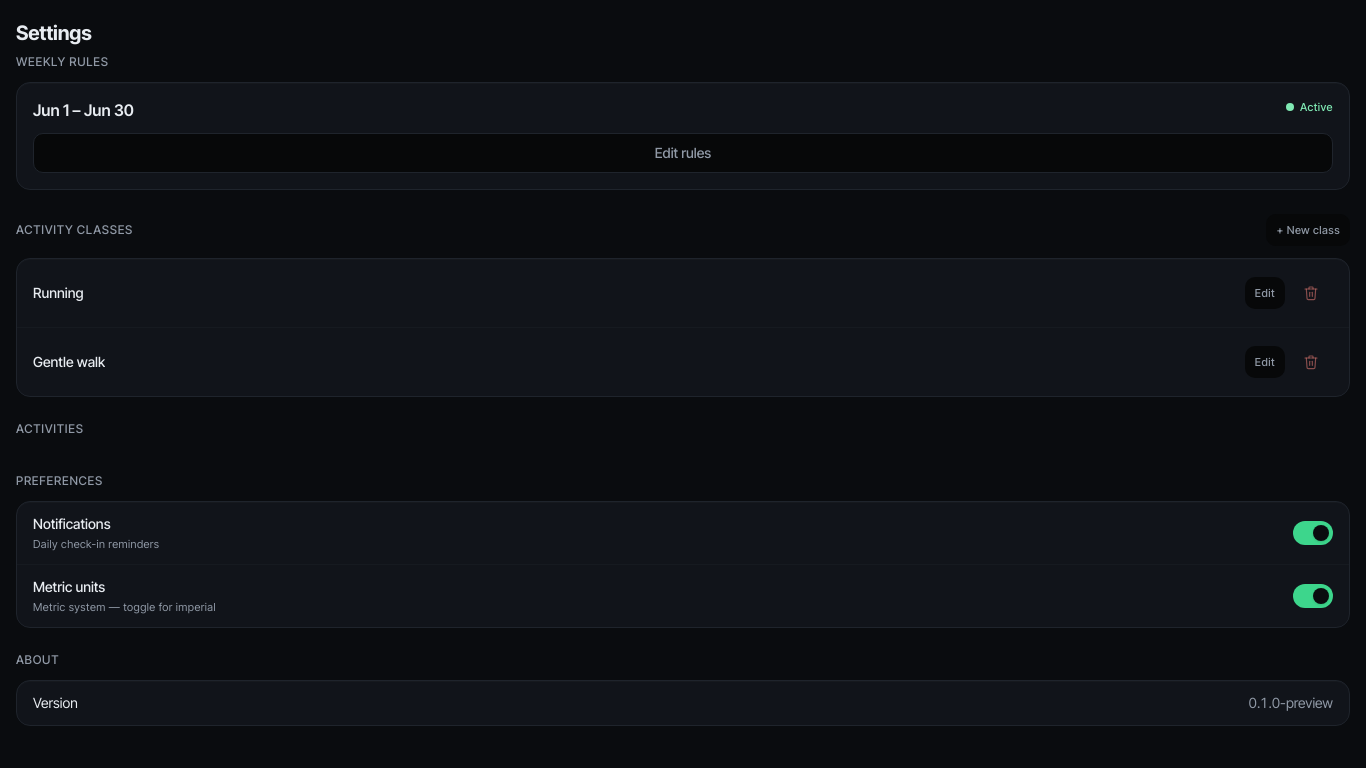
SettingsScreen: activity class row delete trigger › confirmation dialog buttons stay as text (not converted to icons)
This screenshot has width=1366, height=768.
What coordinates should you click on to do the following:
click the button named "delete running"
I would click on:
 (1311, 293)
Its box is [1289,271,1333,315].
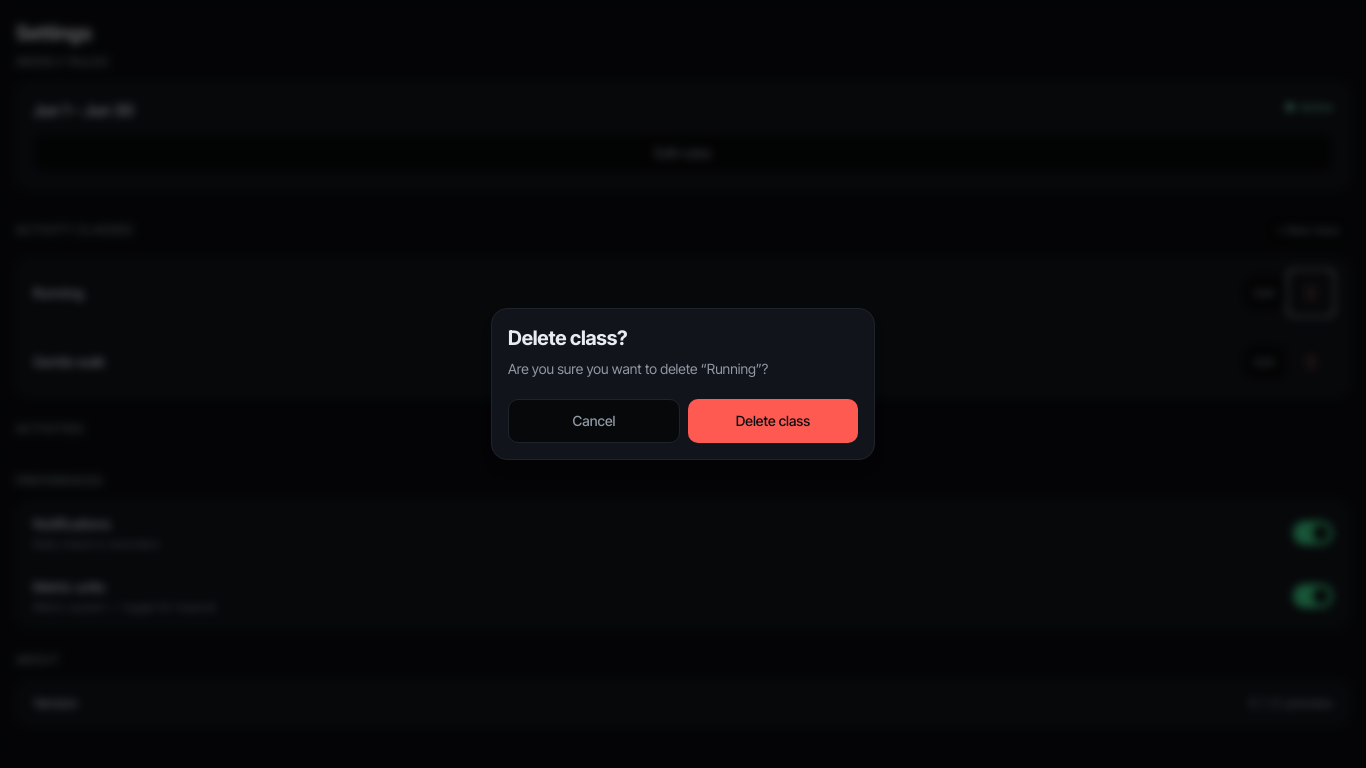
Expected: the button "Delete class" is shown, [688,399,858,443]
